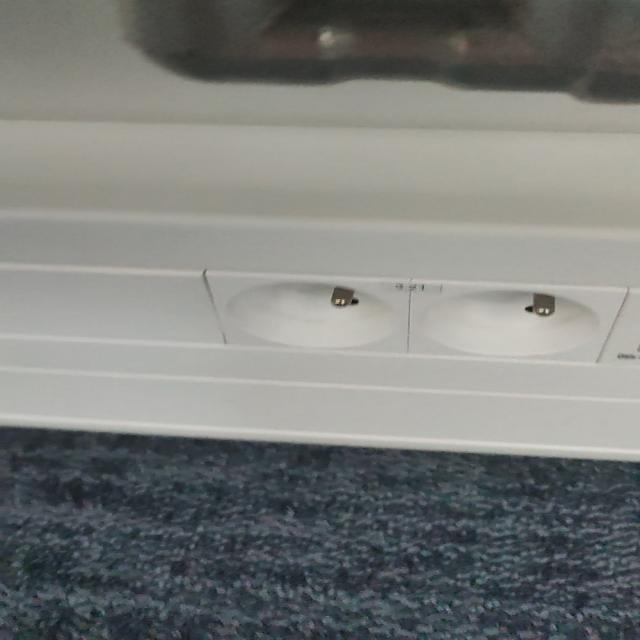house plug: (412, 277, 634, 365), (203, 270, 412, 354)
